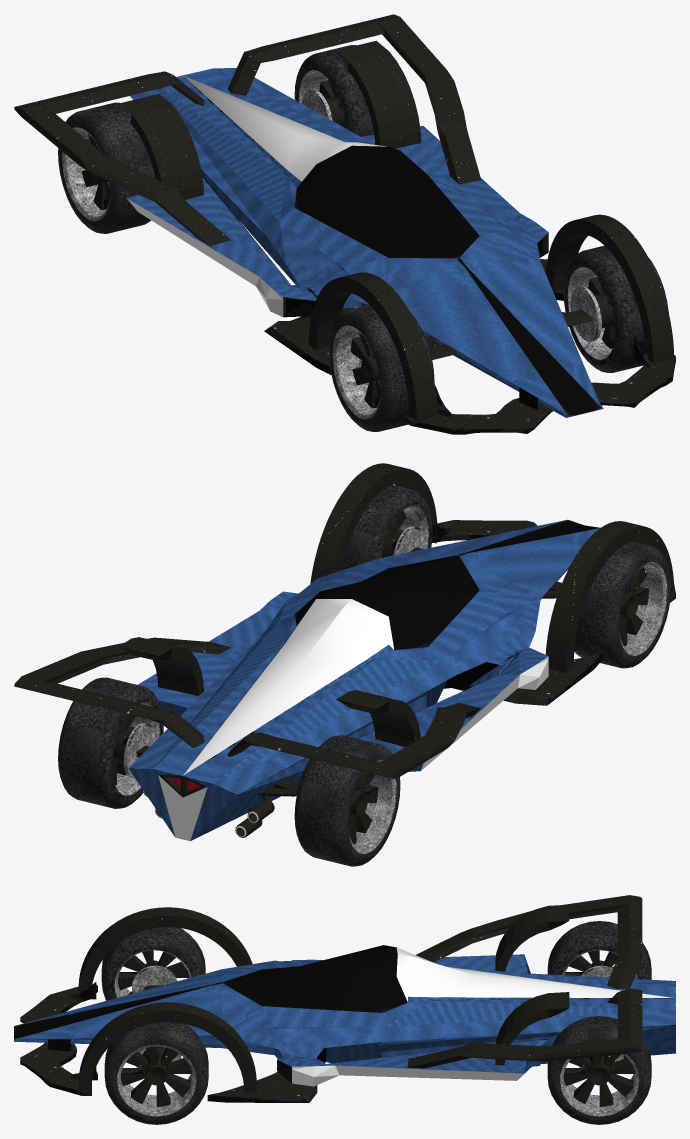
Rendered from untitled.blend2.fbx.
The picture shows the model from 3 angles, top to bottom: view 1: azimuth 30°, elevation 25°; view 2: azimuth 150°, elevation 25°; view 3: azimuth 270°, elevation 25°; orthographic projection. The views are drawn at different scales.
Parts seen in each view (by area): view 1: body, spoiler.001, spoiler, wheel.001, wheel, wheel.003, ark, ark.001, backark.001, backark, wheel.002; view 2: body, wheel.003, wheel.002, wheel.001, ark, spoiler.001, wheel, spoiler, ark.001, backark.001, backark; view 3: body, wheel, wheel.002, wheel.001, spoiler.001, spoiler, ark.001, ark, wheel.003, backark, backark.001.
Boxes of the visible parts, x1,y1,x2,y2 form: body: (127, 67, 675, 434); spoiler.001: (227, 14, 481, 184); spoiler: (14, 71, 230, 246); wheel.001: (328, 304, 434, 431); wheel: (563, 245, 668, 372); wheel.003: (58, 102, 155, 233); ark: (308, 272, 437, 421); ark.001: (545, 214, 674, 363); backark.001: (336, 40, 421, 148); backark: (119, 94, 203, 199); wheel.002: (294, 45, 373, 136); body: (128, 519, 675, 841); wheel.003: (294, 735, 400, 866); wheel.002: (58, 677, 163, 808); wheel.001: (574, 541, 671, 668); ark: (545, 521, 674, 672); spoiler.001: (14, 637, 230, 747); wheel: (341, 485, 432, 570); spoiler: (227, 703, 480, 778); ark.001: (310, 463, 437, 583); backark.001: (119, 637, 203, 695); backark: (336, 690, 420, 746); body: (14, 945, 675, 1102); wheel: (104, 1022, 208, 1124); wheel.002: (547, 1016, 651, 1124); wheel.001: (101, 927, 205, 1000); spoiler.001: (407, 988, 642, 1068); spoiler: (416, 895, 642, 988); ark.001: (78, 1002, 256, 1092); ark: (78, 907, 252, 992); wheel.003: (547, 921, 651, 979); backark: (495, 904, 569, 971); backark.001: (495, 992, 569, 1065).
Bounding box in the file's own units: 1096 × 392 × 2015.
12 materials, 12 textured.
